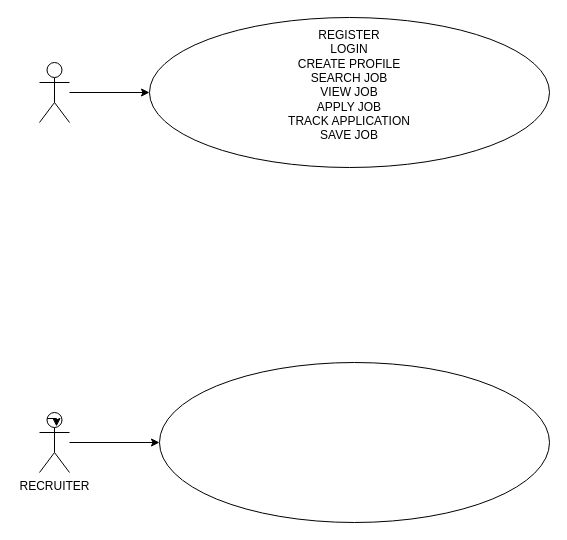
This 567x540 diagram has some shape labels left out. The shapes that lost their labels are listed below. From the top down, each one's centre as x and y in pixels, then its label:
[54,92]: JOB SEEKER
[354,442]: POST JOB VIEW APPLICANTS UPDATE APPLICATION STATUS EDIT / DELETE JOB
